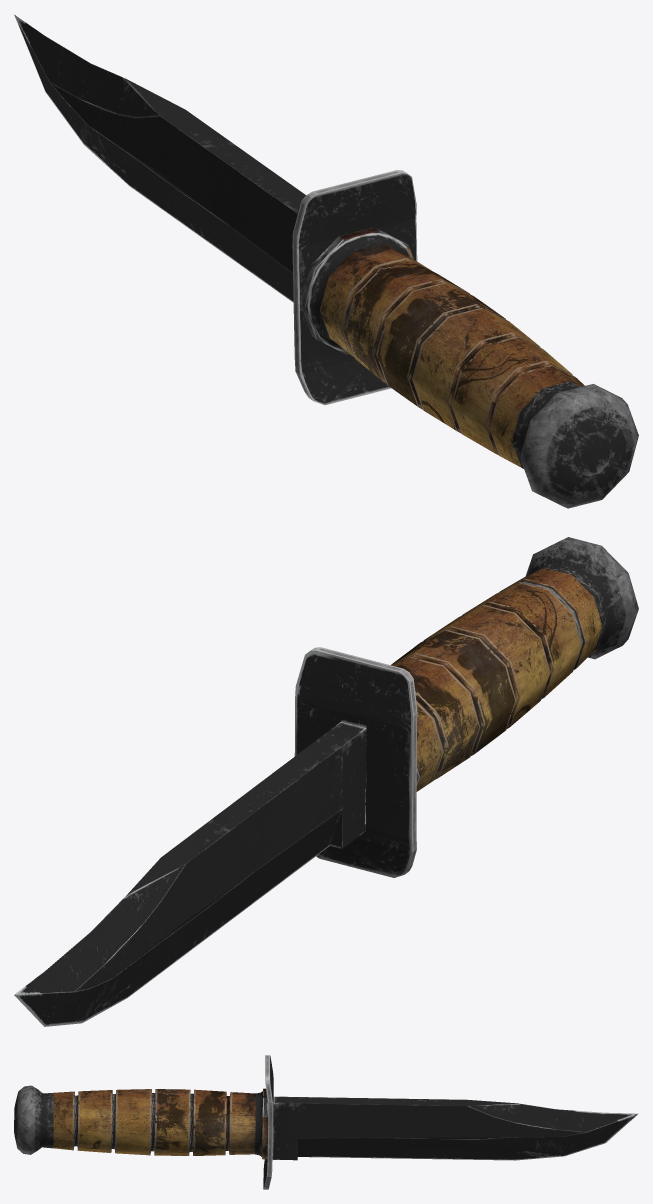
File: knife.glb
3 renders of one model, top to bottom at view 1: azimuth 30°, elevation 25°; view 2: azimuth 150°, elevation 25°; view 3: azimuth 270°, elevation 25°, orthographic. The views are drawn at different scales.
Parts seen in each view (by area): view 1: Model; view 2: Model; view 3: Model.
Boxes of the visible parts, x1,y1,x2,y2 form: Model: (14, 14, 638, 508); Model: (14, 537, 638, 1026); Model: (14, 1055, 638, 1189).
Size of the model in its own units: 0.0598 by 0.1004 by 0.5.
Materials: 1 (1 with a texture image).
